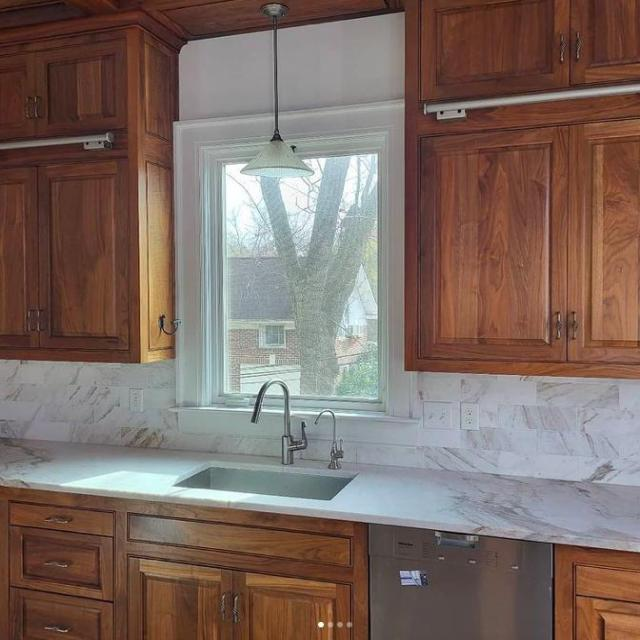dishwasher: (368, 520, 553, 639)
